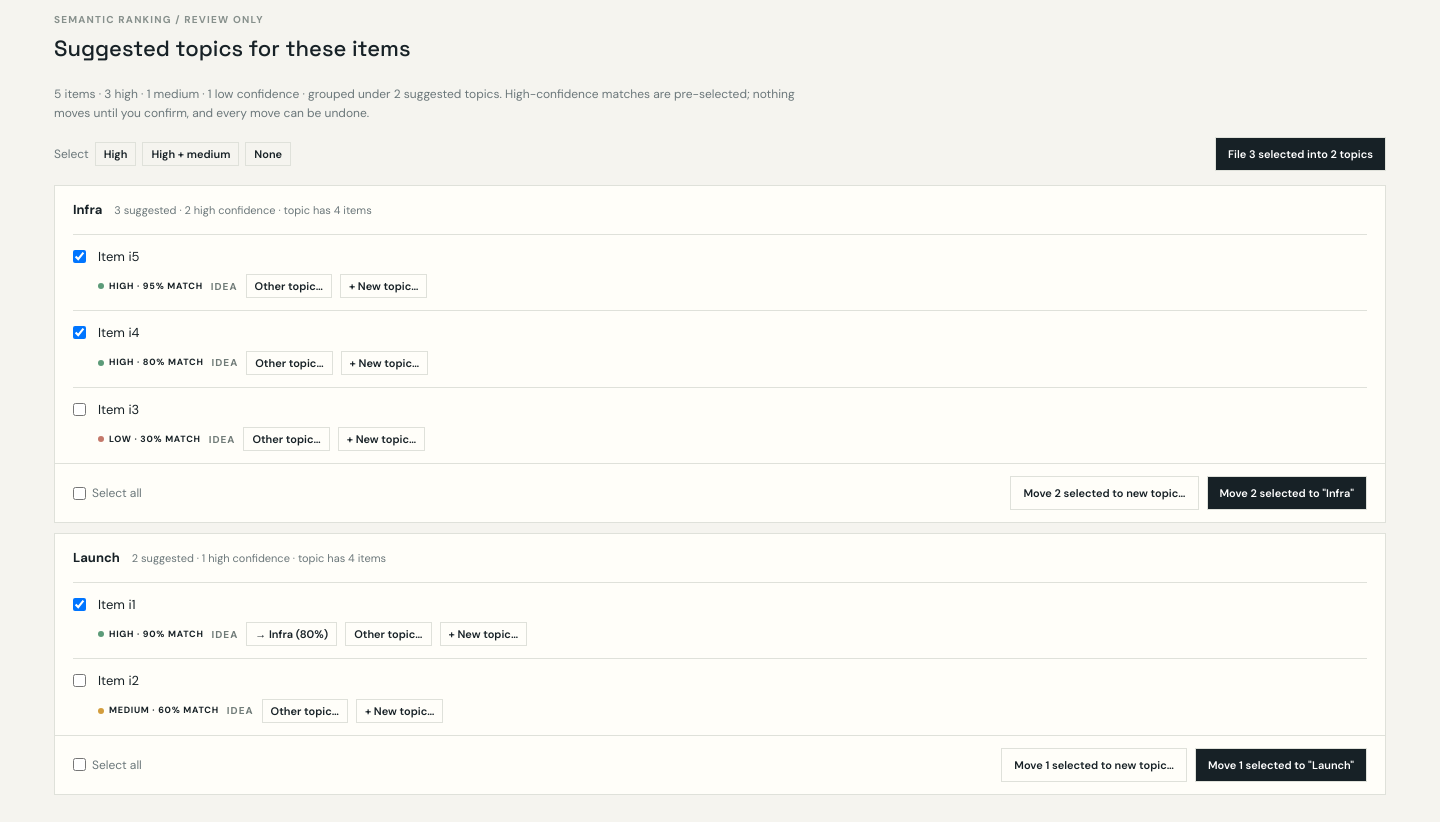
Scenario: SuggestedItemTopics › selects by confidence band
This screenshot has width=1440, height=822.
Click the button "High + medium": (191, 154) [142, 142, 239, 166]
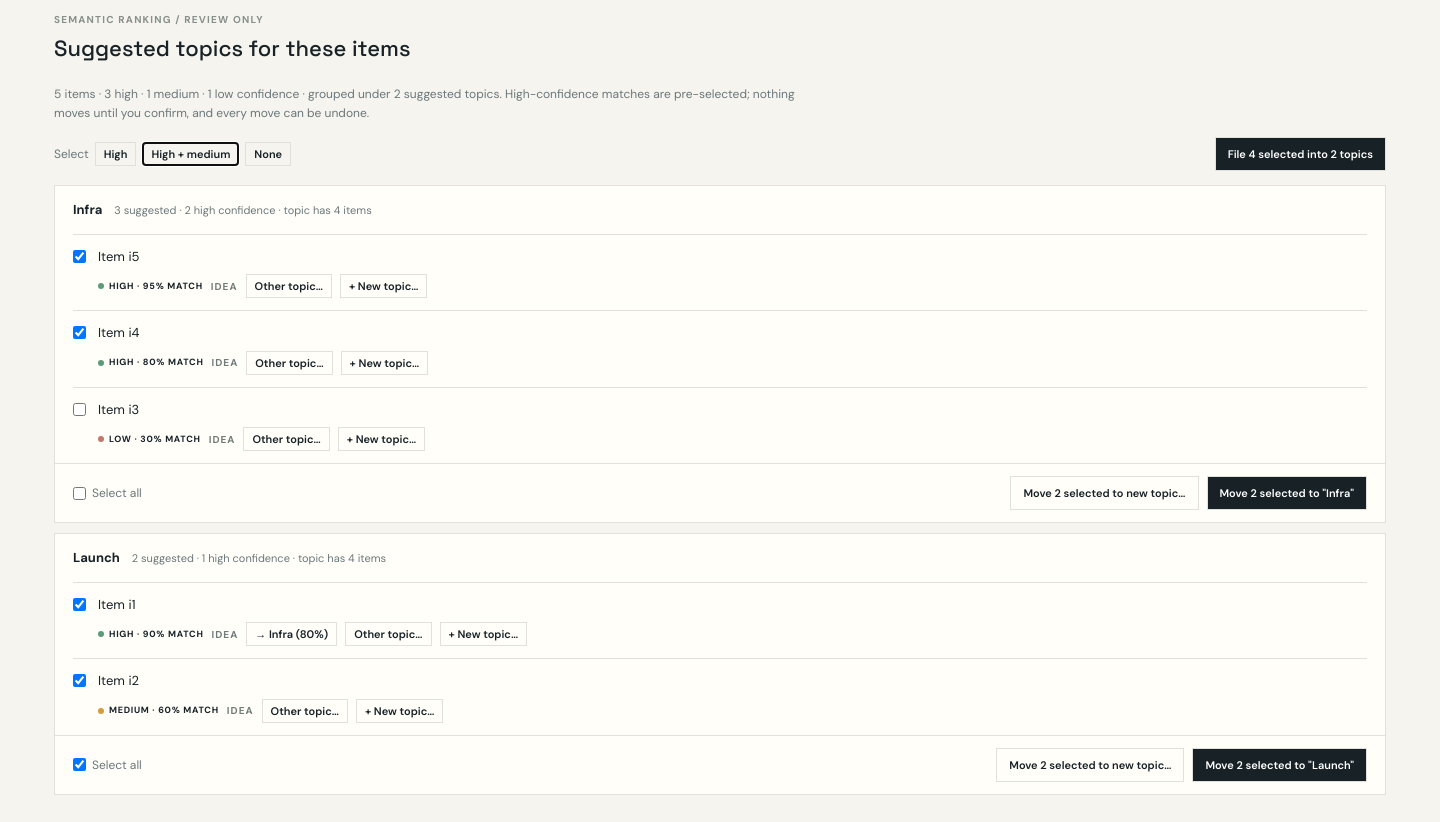
Expected: the button "File 4 selected into 2 topics" is shown, [1215, 137, 1386, 171]
Click the button "None": (268, 154) [245, 142, 291, 166]
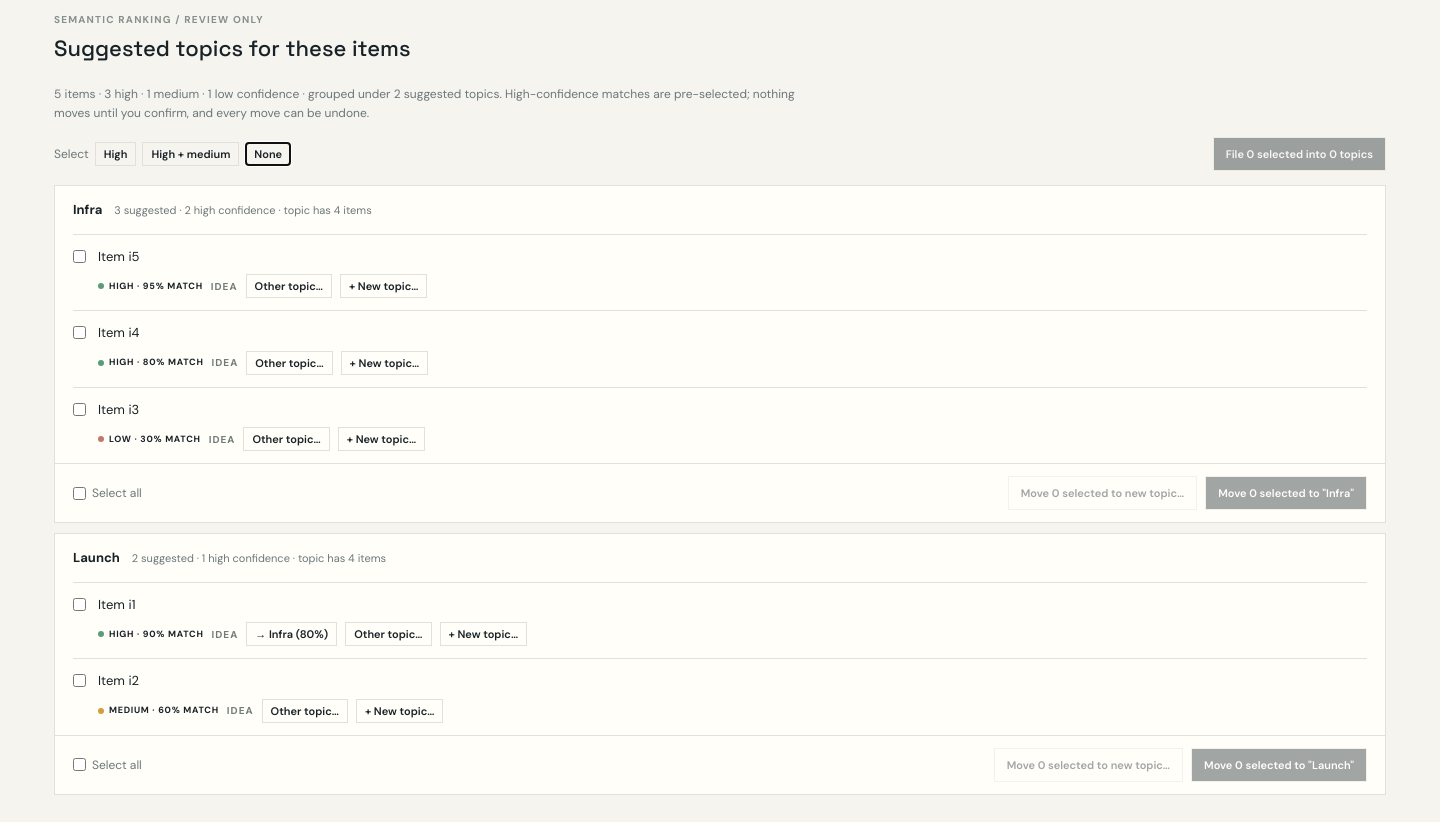
Expected: the button "File 0 selected into 0 topics" is disabled, [1213, 137, 1386, 171]
